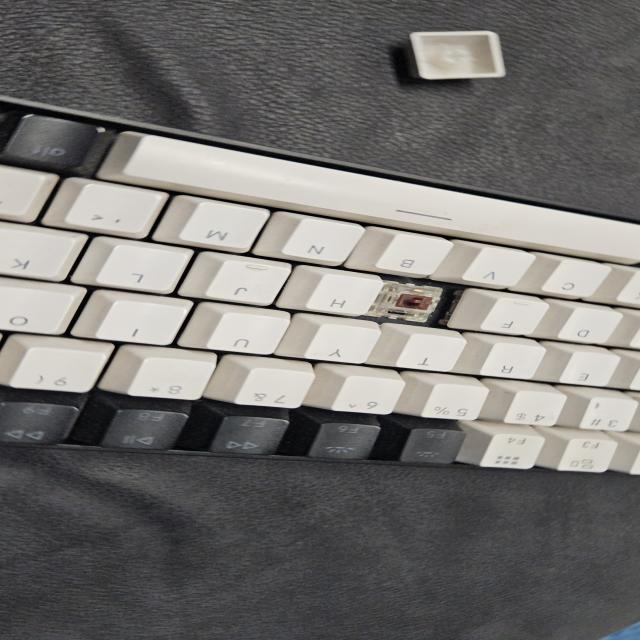C: (391, 282, 446, 320), (388, 284, 448, 318)
